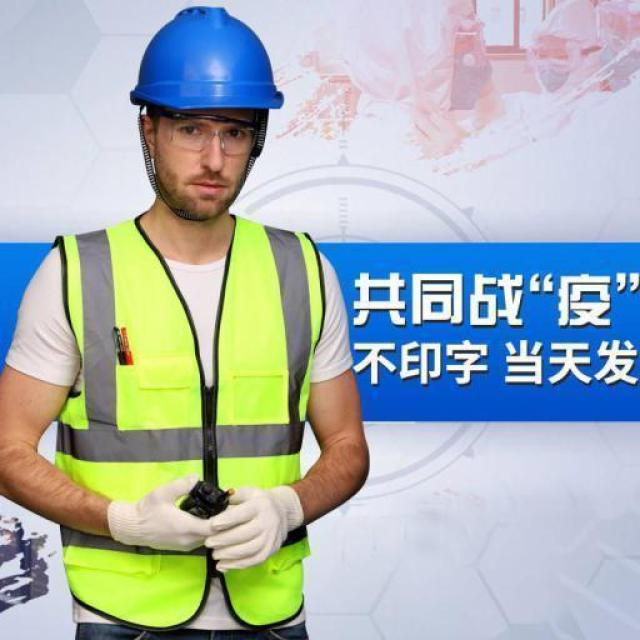face_nomask: (164, 116, 258, 200)
glasses: (164, 114, 264, 161)
hand_glove: (102, 471, 220, 559), (198, 481, 303, 575)
head_helmet: (126, 7, 286, 118)
person: (0, 2, 372, 639)
vest: (51, 210, 328, 625)
